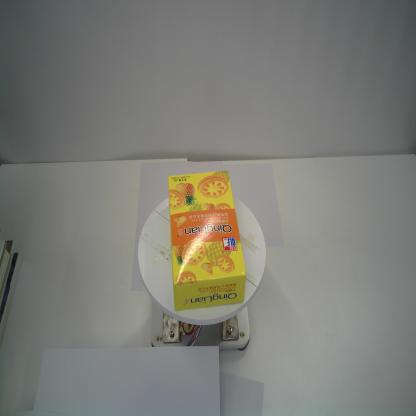Dessert: (168, 170, 246, 312)
